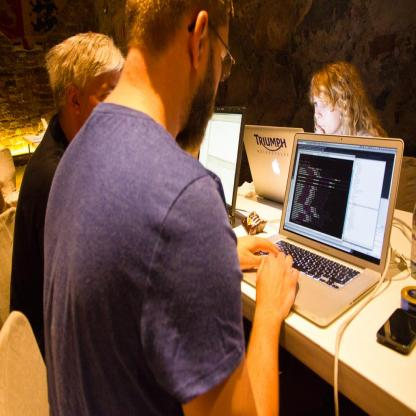board: (242, 134, 404, 325), (198, 105, 247, 226), (242, 124, 304, 205)
